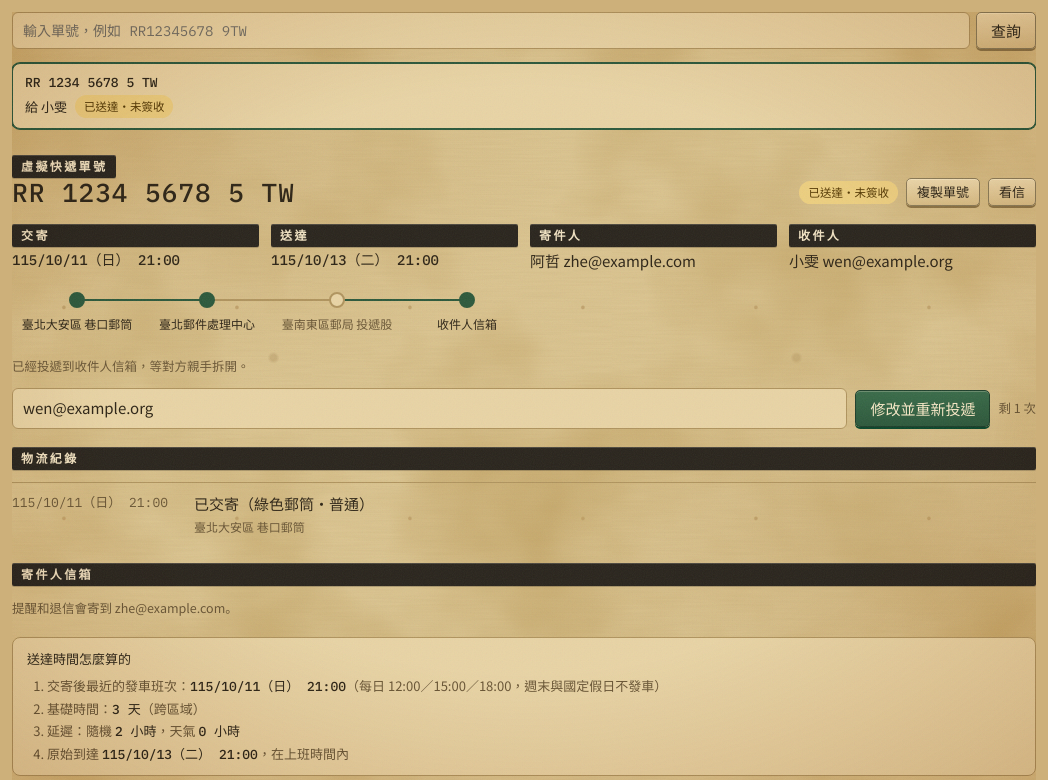
追蹤 › 已送達未簽收：顯示後端給的計算明細；可改信箱時用 POST /recipient-email
This screenshot has width=1048, height=780.
Expected: the list item "基礎時間：3 天（跨區域）" is shown, [47, 699, 206, 718]
Expected: the list item "跨區域" is shown, [154, 699, 193, 718]
Replace the text in the field with placeholder "正確的收件信箱" with "wen2@example.org" at x=430, y=409, box [12, 388, 847, 429]
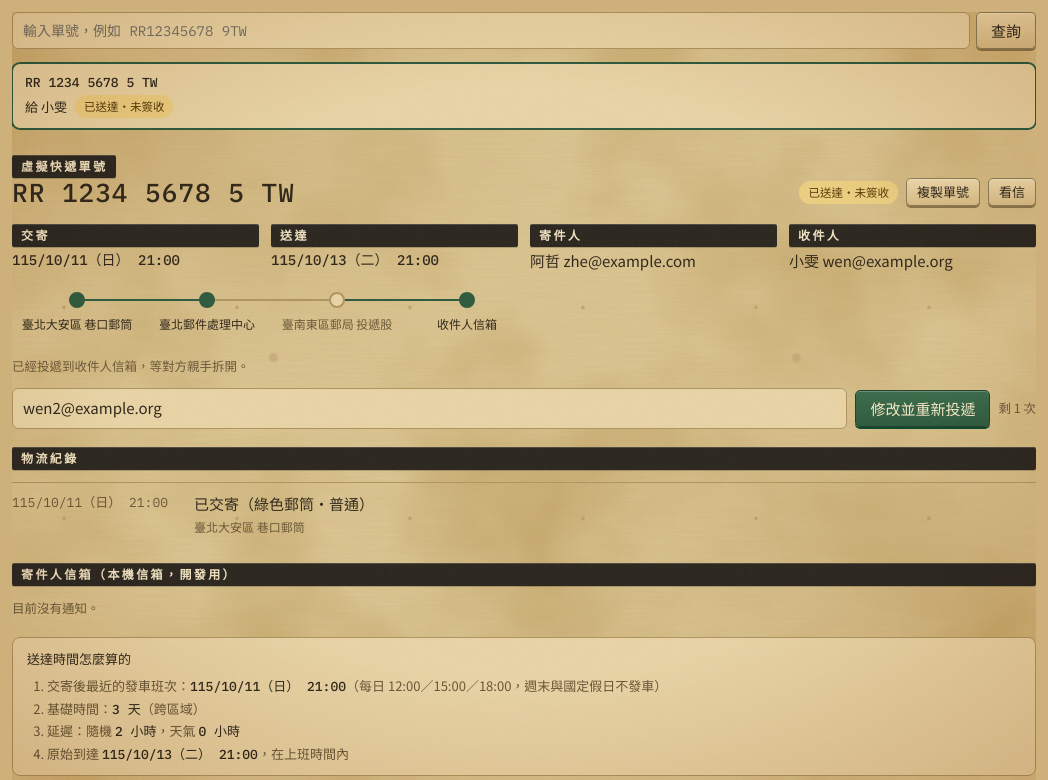
Click the button "修改並重新投遞" at x=923, y=409, box [855, 390, 990, 427]
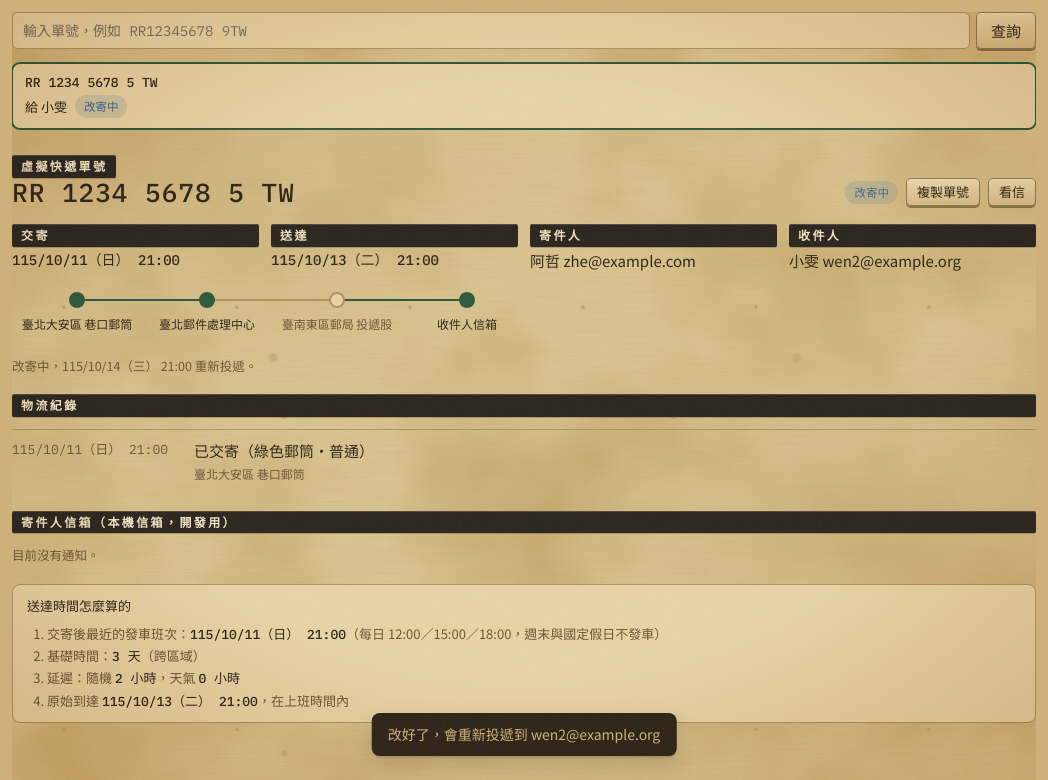
Now the 1st text "改寄中" is shown, box [75, 95, 127, 118]
